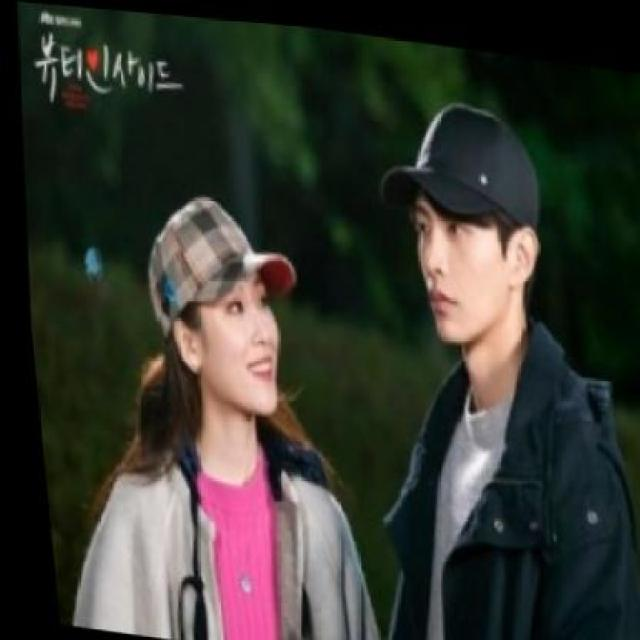hat: (361, 74, 548, 241), (131, 178, 303, 359)
